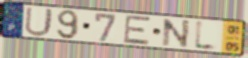7: (93, 11, 119, 43)
9: (56, 9, 82, 41)
E: (122, 14, 153, 47)
L: (192, 18, 219, 53)
N: (162, 18, 192, 49)
U: (23, 6, 55, 38)
